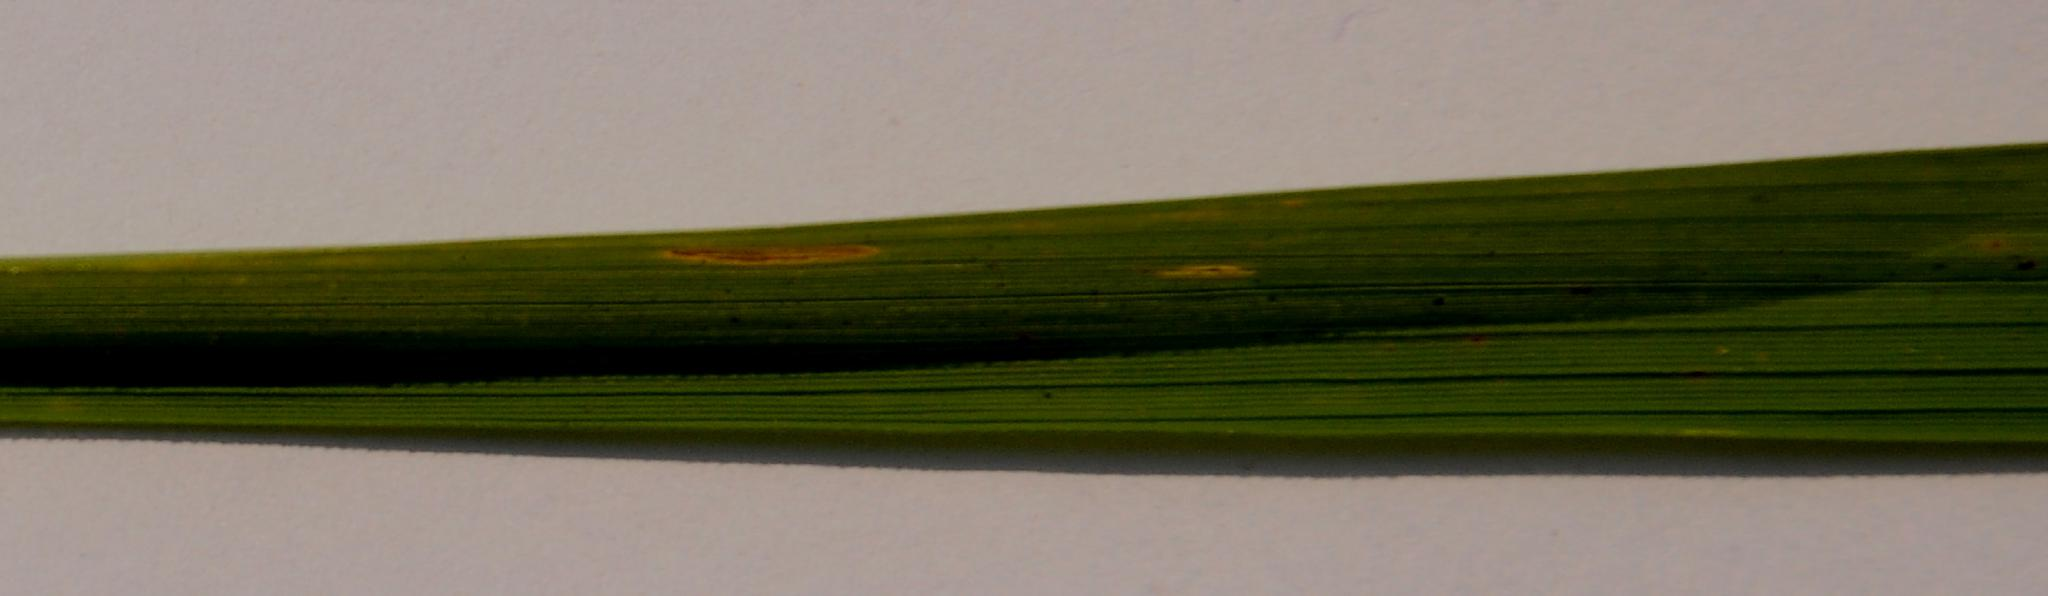2 BacterialBlight: (564, 216, 934, 295), (1102, 225, 1400, 303)
